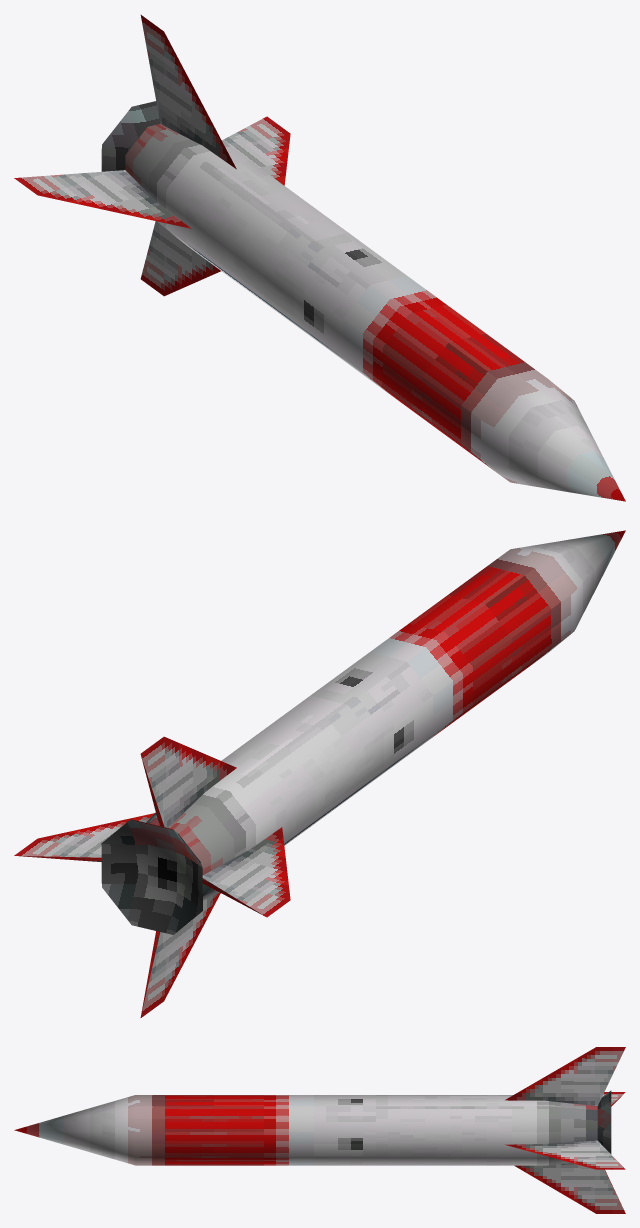
File: wpn_missile_space_s02_l2.fbx
The picture shows the model from 3 angles, top to bottom: view 1: azimuth 30°, elevation 25°; view 2: azimuth 150°, elevation 25°; view 3: azimuth 270°, elevation 25°; orthographic projection. The views are drawn at different scales.
Visible parts, largest first — view 1: mesh_node; view 2: mesh_node; view 3: mesh_node.
Part boxes in pixels (bbox=[...]): mesh_node: bbox=[14, 15, 625, 501]; mesh_node: bbox=[14, 530, 625, 1017]; mesh_node: bbox=[14, 1047, 625, 1213].
Bounding box in the file's own units: 0.6009 × 0.6009 × 2.
